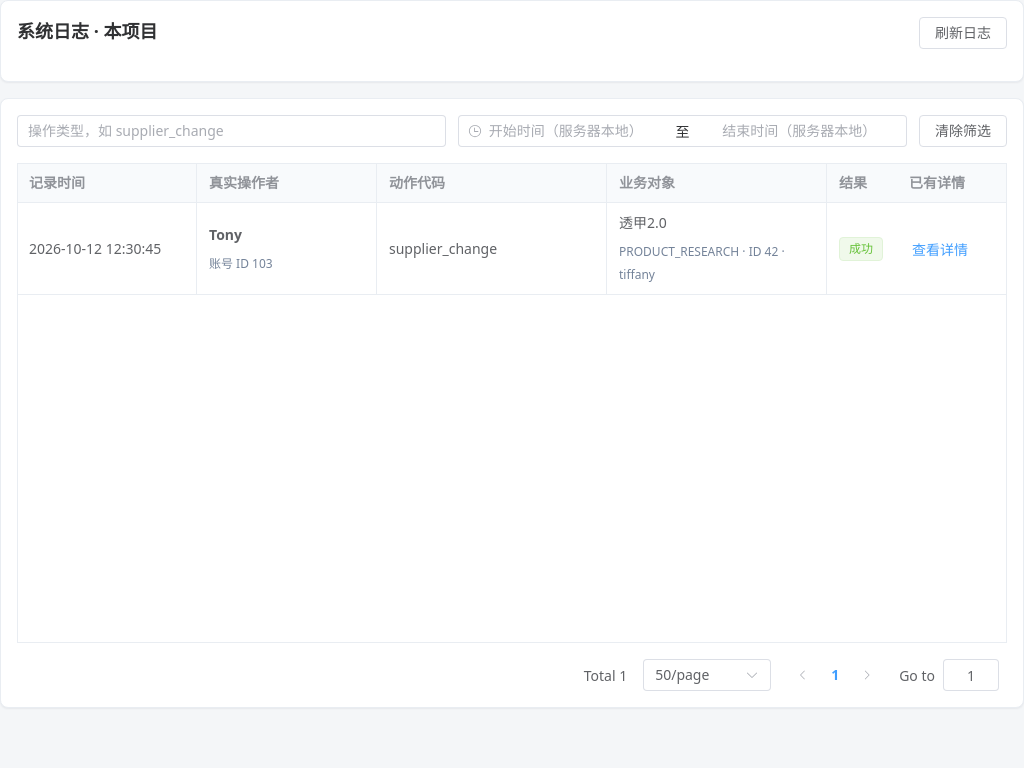
Test: existing server operation log viewer › opens only the authorized project log without loading global account choices and shows supplier before/after evidence
Click the button "查看详情" at (940, 250), box [909,240,971,260]
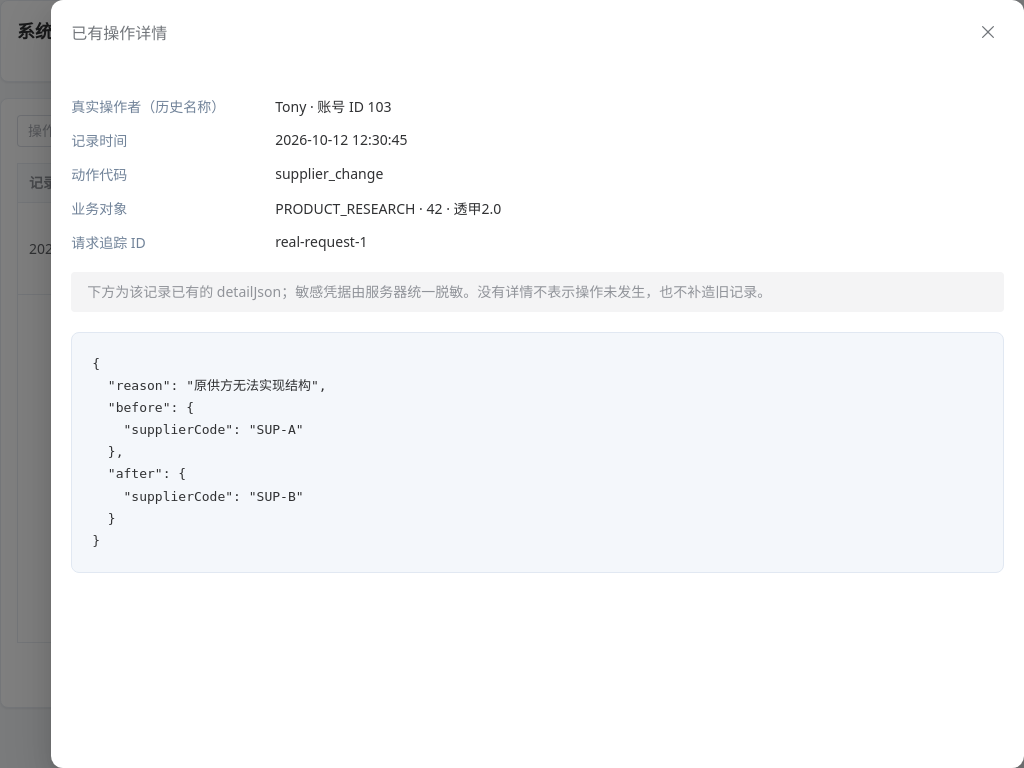
Result: the text with test id "operation-log-detail" shows "SUP-A" at [92,356,327,548]
Result: the text with test id "operation-log-detail" shows "SUP-B" at [92,356,327,548]
Result: the text with test id "operation-log-detail" shows "原供方无法实现结构" at [92,356,327,548]
